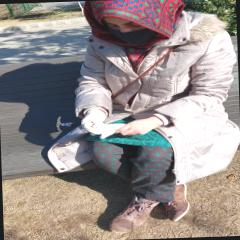gloved: (80, 110, 107, 134)
not-gloved: (115, 115, 164, 138)
